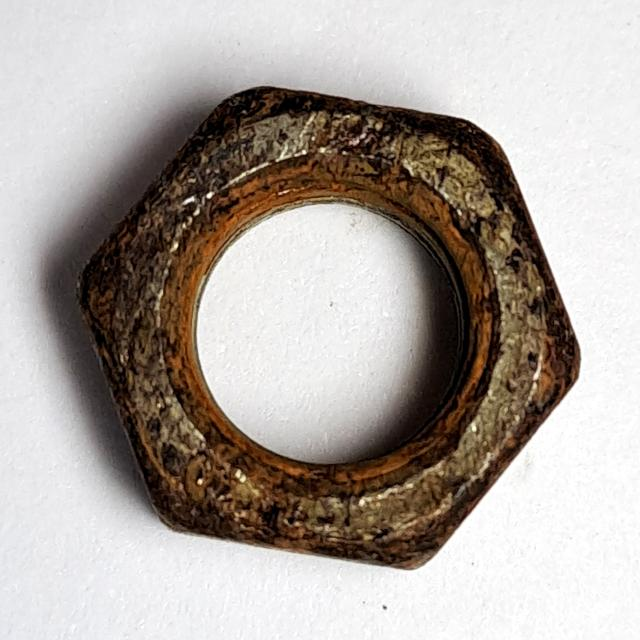Rust: (57, 70, 595, 582)
